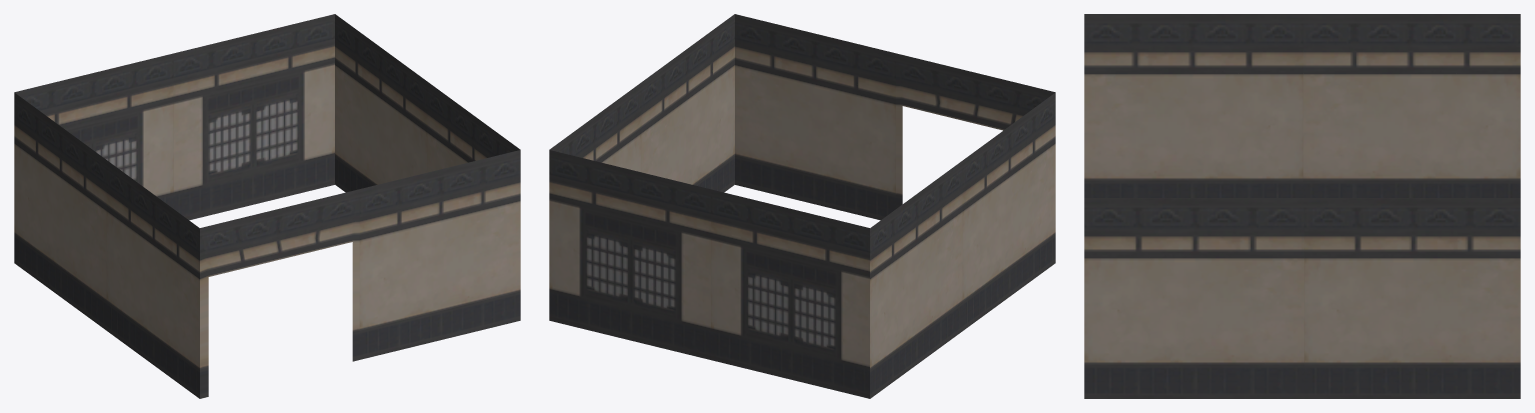
The model's file is Homeworld_Interior_Dq_Room_I_Filling_01_Vo.fbx.
3 views of the same model, side by side, from view 1: azimuth 30°, elevation 25°; view 2: azimuth 150°, elevation 25°; view 3: azimuth 270°, elevation 25° (orthographic). The views are drawn at different scales.
Visible parts, largest first — view 1: Homeworld_Interior_Dq_Room_I_Filling_01_Vo; view 2: Homeworld_Interior_Dq_Room_I_Filling_01_Vo; view 3: Homeworld_Interior_Dq_Room_I_Filling_01_Vo.
Boxes of the visible parts, left/top/right/bottom form: Homeworld_Interior_Dq_Room_I_Filling_01_Vo: left=14, top=14, right=520, bottom=398; Homeworld_Interior_Dq_Room_I_Filling_01_Vo: left=549, top=14, right=1055, bottom=398; Homeworld_Interior_Dq_Room_I_Filling_01_Vo: left=1084, top=14, right=1520, bottom=398.
Size of the model in its own units: 9.79 by 4.98 by 9.81.
